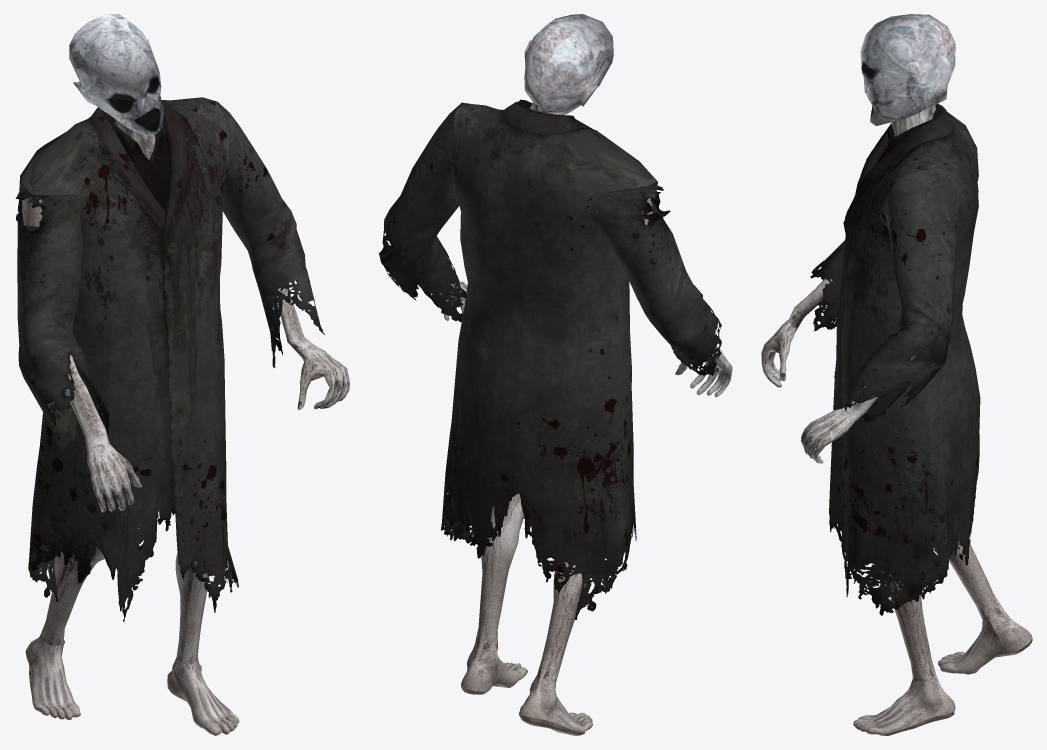
Rendered from ExportedImp.obj.
3 views of the same model, side by side, from view 1: azimuth 30°, elevation 25°; view 2: azimuth 150°, elevation 25°; view 3: azimuth 270°, elevation 25° (orthographic). The views are drawn at different scales.
Visible parts, largest first — view 1: Model001_41_coat_0.1_16_16.003, Model001_40_body_1_0_0, Model001_5_head_1_0_0.002, Model001_40_hands_1_0_0; view 2: Model001_41_coat_0.1_16_16.003, Model001_40_body_1_0_0, Model001_5_head_1_0_0.002, Model001_40_hands_1_0_0; view 3: Model001_41_coat_0.1_16_16.003, Model001_40_body_1_0_0, Model001_5_head_1_0_0.002, Model001_40_hands_1_0_0.
Part boxes in pixels (<box>): Model001_41_coat_0.1_16_16.003: <box>16,97,324,621</box>; Model001_40_body_1_0_0: <box>25,120,298,735</box>; Model001_5_head_1_0_0.002: <box>69,14,163,136</box>; Model001_40_hands_1_0_0: <box>78,320,349,512</box>; Model001_41_coat_0.1_16_16.003: <box>378,99,721,619</box>; Model001_40_body_1_0_0: <box>461,102,592,735</box>; Model001_5_head_1_0_0.002: <box>524,14,613,114</box>; Model001_40_hands_1_0_0: <box>439,281,732,397</box>; Model001_41_coat_0.1_16_16.003: <box>810,103,980,615</box>; Model001_40_body_1_0_0: <box>806,104,1032,735</box>; Model001_5_head_1_0_0.002: <box>860,14,955,125</box>; Model001_40_hands_1_0_0: <box>761,297,876,463</box>.
Size of the model in its own units: 0.4556 by 1.04 by 0.3792.
